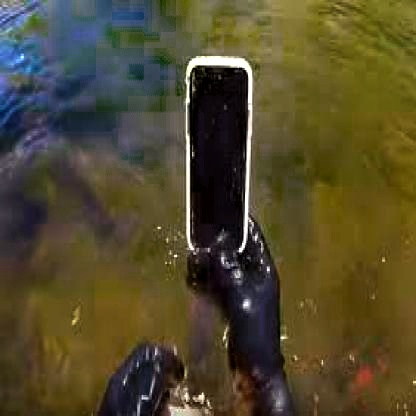cellphone: (180, 51, 255, 257)
